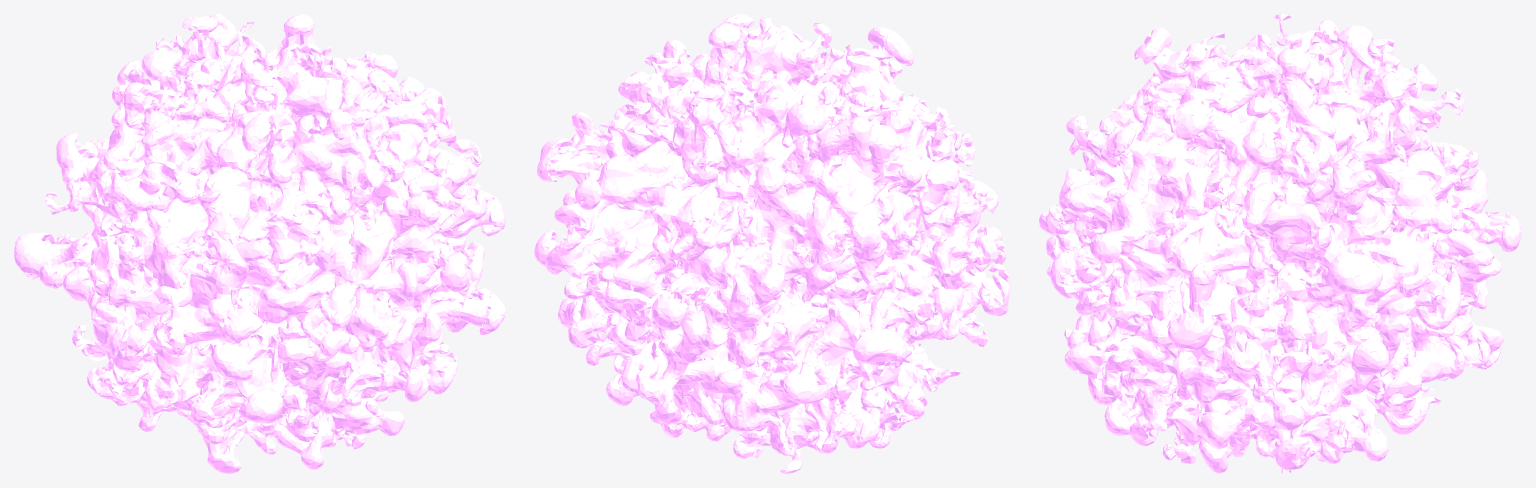
The model's file is snr-sn1006.glb.
3 views of the same model, side by side, from view 1: azimuth 30°, elevation 25°; view 2: azimuth 150°, elevation 25°; view 3: azimuth 270°, elevation 25° (orthographic). The views are drawn at different scales.
Parts seen in each view (by area): view 1: Ejecta full globe.stl; view 2: Ejecta full globe.stl; view 3: Ejecta full globe.stl.
Part boxes in pixels (box(x1,y1,x2,y2)): Ejecta full globe.stl: box(14, 14, 505, 473); Ejecta full globe.stl: box(534, 14, 1010, 473); Ejecta full globe.stl: box(1039, 14, 1521, 473).
Size of the model in its own units: 14.8 by 14.58 by 14.77.
